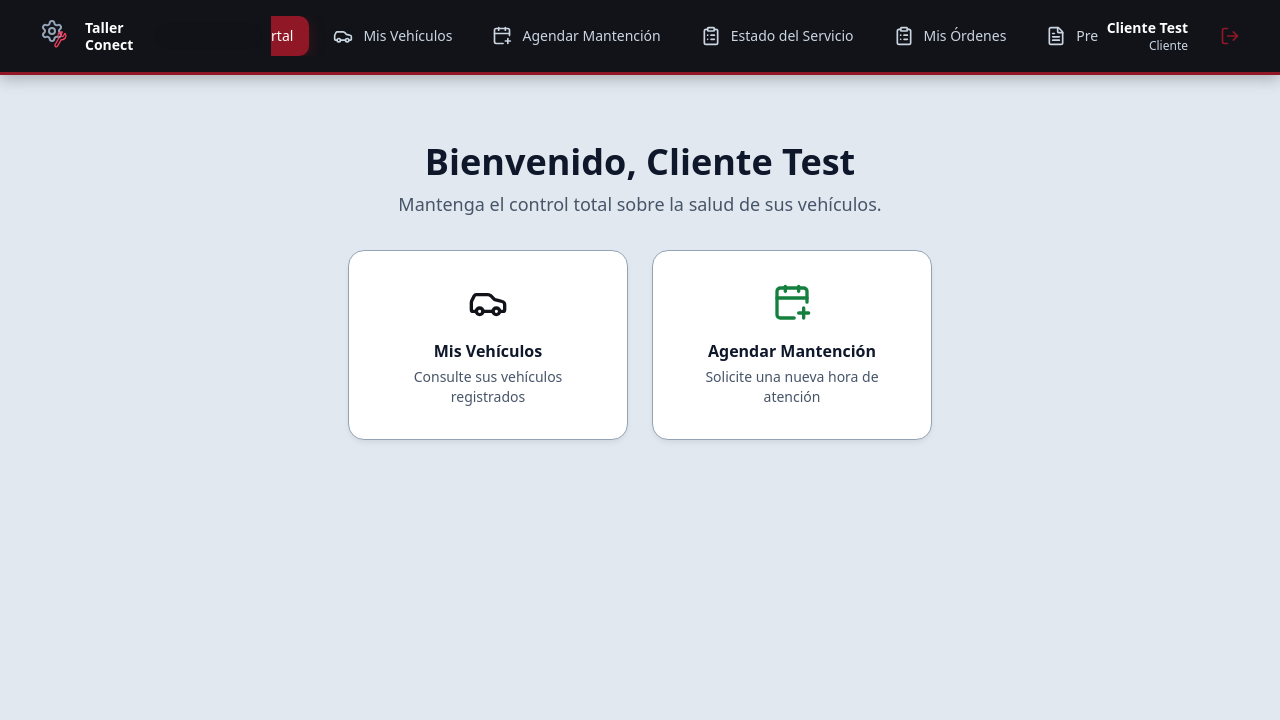
Test case: AppRoutes: navegación por los tres roles › portal cliente › navega con un clic del menú hacia /client/vehiculos
The image size is (1280, 720).
What coordinates should you click on to do the following:
click the link "Mis Vehículos"
I would click on:
 (393, 36)
Its box is [333,26,452,46].
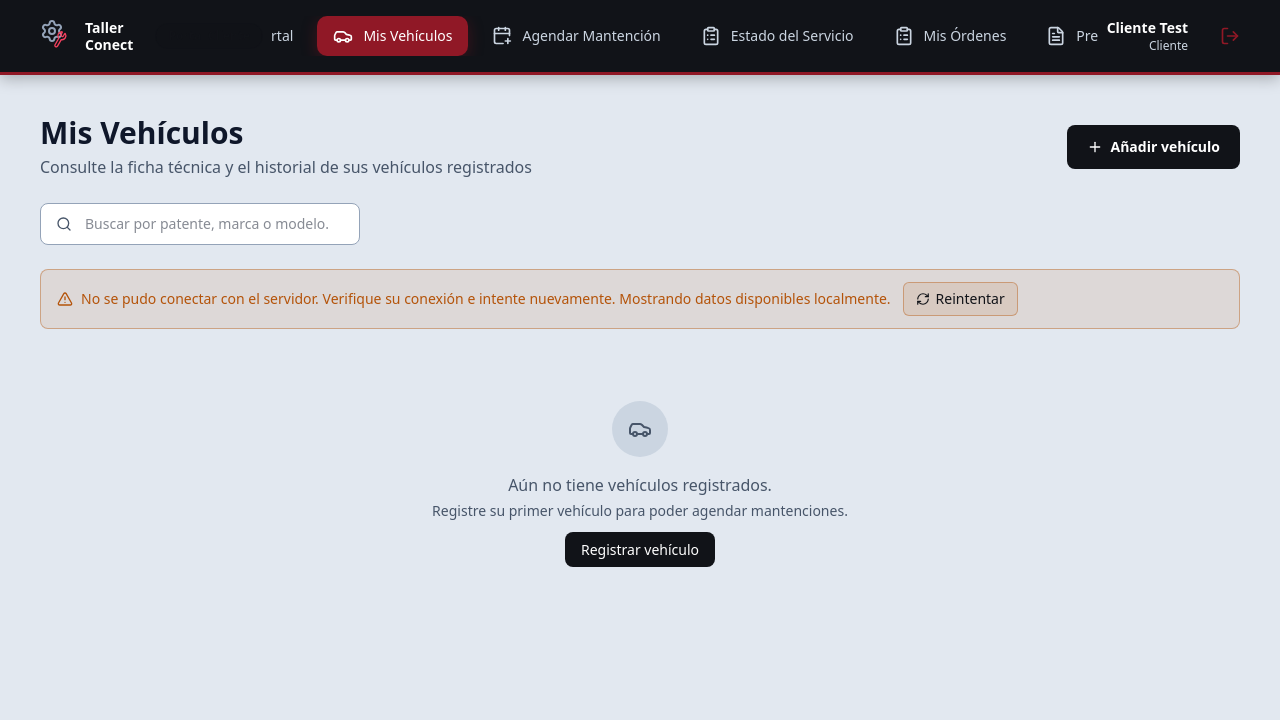
Now the text "Consulte la ficha técnica y el historial de sus vehículos registrados" is shown, box [40,155,532,179]
